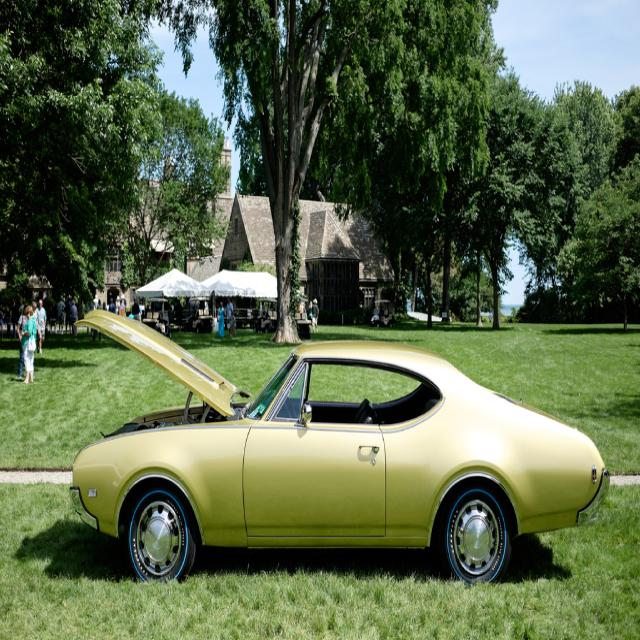car: (65, 307, 611, 592)
